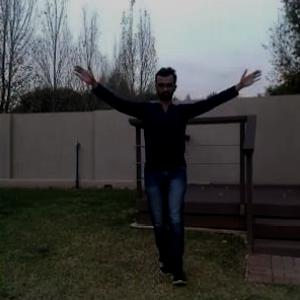takeoff: (75, 64, 264, 272)
